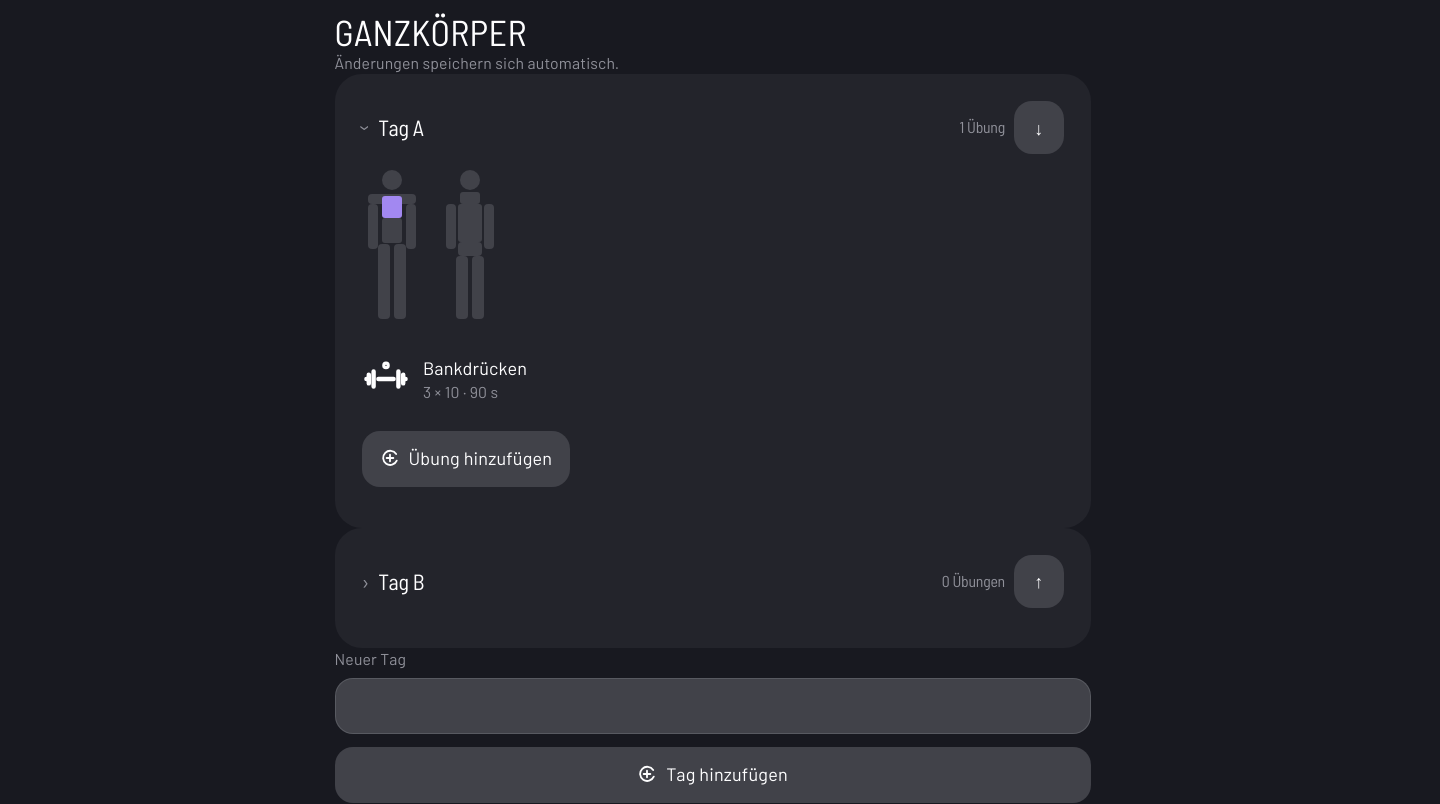
Test: TrainingPlanEditPage › reports a failed write instead of swallowing it
Expected: the text "Tag A" is shown, x1=378 y1=114 x2=424 y2=141
Click the button "↓︎" at (1039,128), box x1=1014 y1=101 x2=1064 y2=154
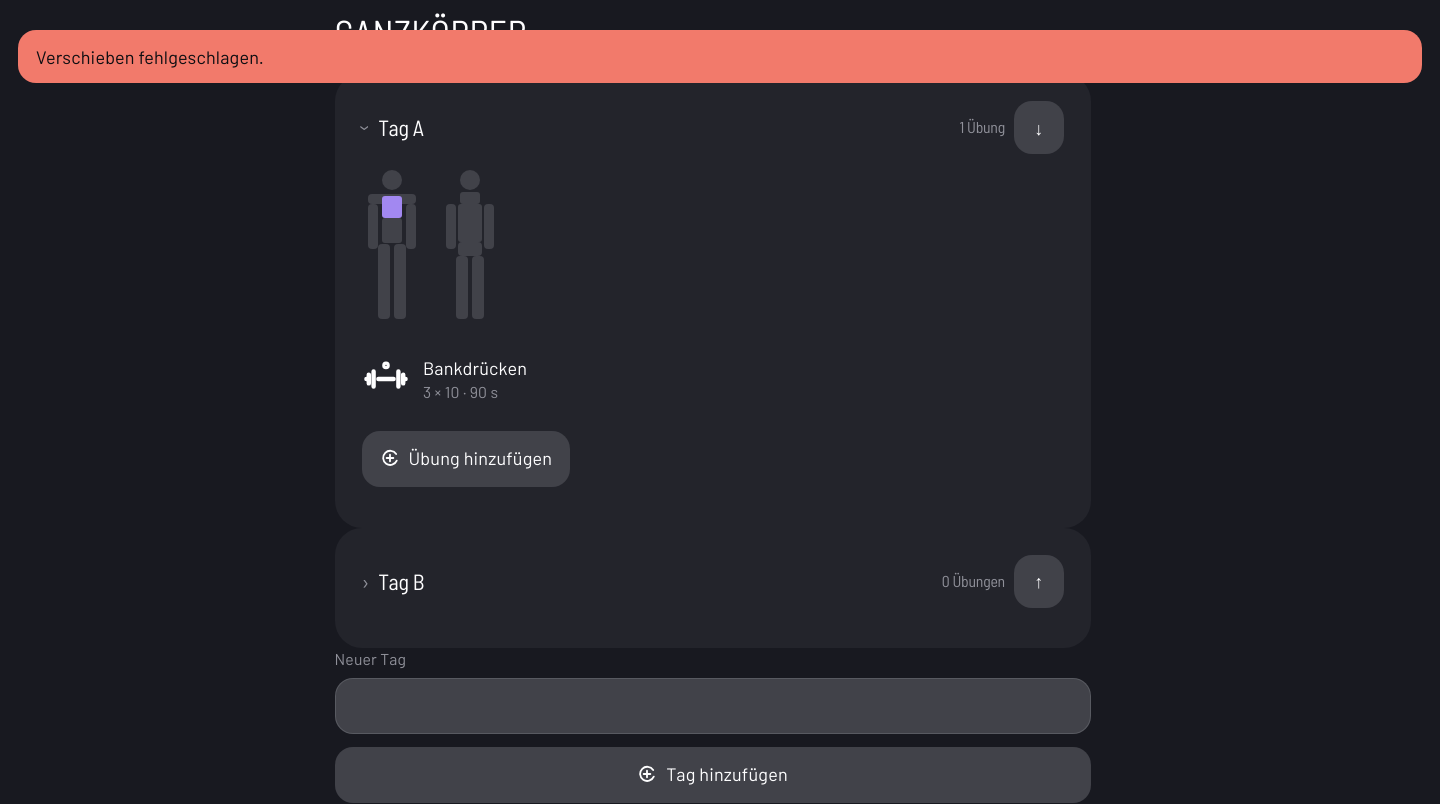
Now the message "Verschieben fehlgeschlagen." is shown, box x1=18 y1=30 x2=1422 y2=83
